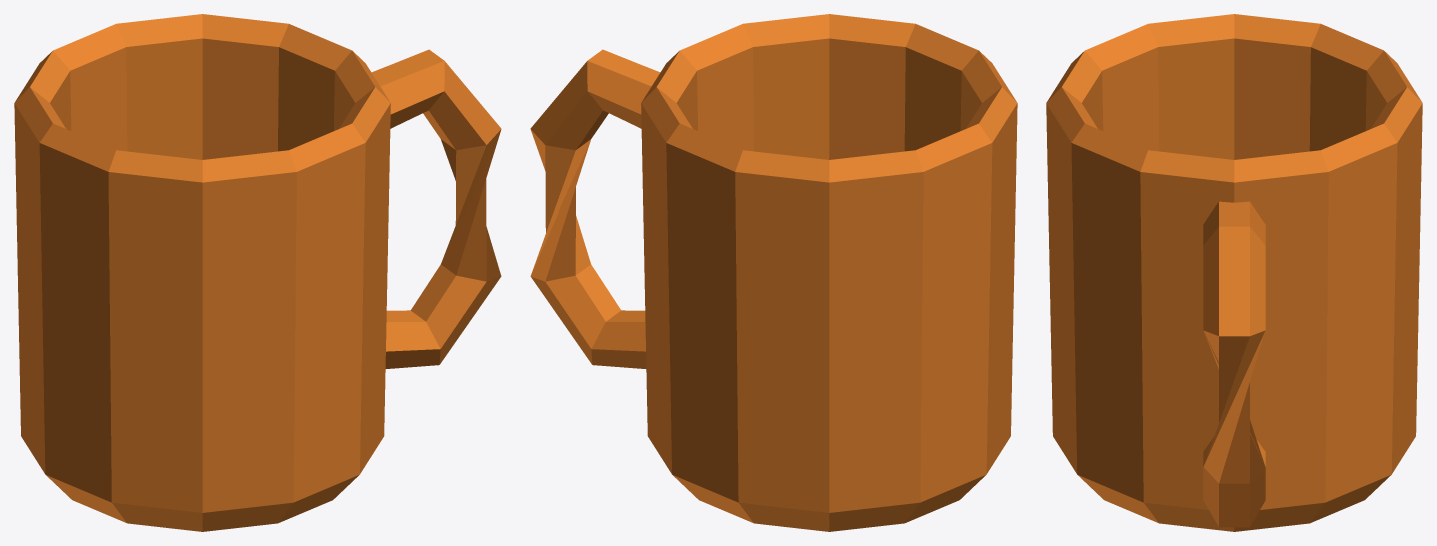
File: mug.glb
3 views of the same model, side by side, from view 1: azimuth 30°, elevation 25°; view 2: azimuth 150°, elevation 25°; view 3: azimuth 270°, elevation 25° (orthographic).
Parts seen in each view (by area): view 1: Taza, Asa; view 2: Taza, Asa; view 3: Taza, Asa.
Boxes of the visible parts, x1,y1,x2,y2 form: Taza: (14,14,390,531); Asa: (371,49,501,368); Taza: (641,14,1017,531); Asa: (530,49,660,368); Taza: (1046,14,1422,531); Asa: (1203,201,1265,527).
Size of the model in its own units: 0.1184 by 0.095 by 0.085.
